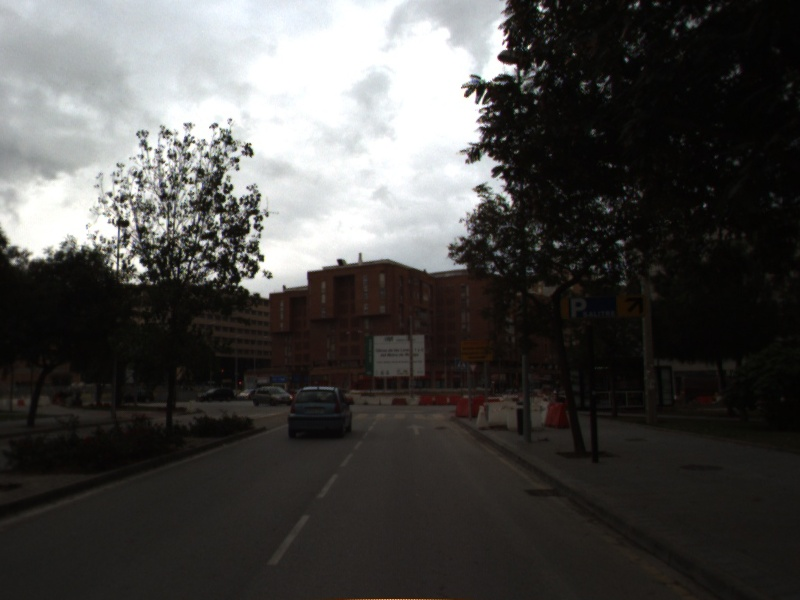STRAIGHT: (404, 422, 427, 436)
